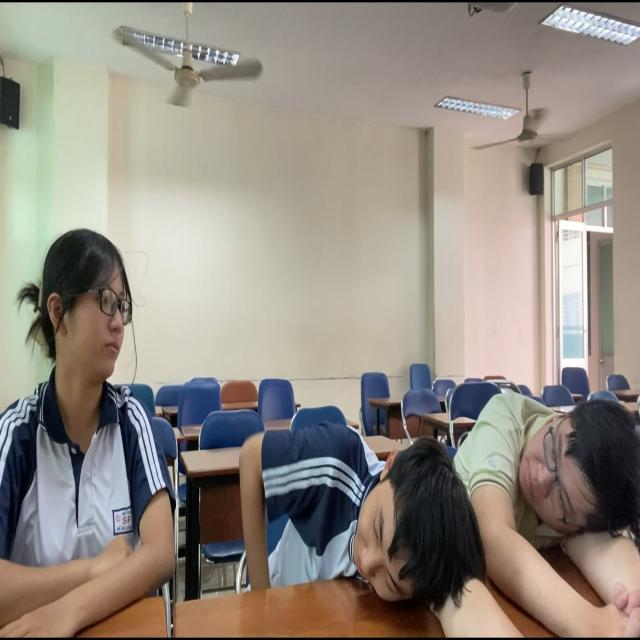sleep: (214, 390, 523, 640), (456, 317, 640, 640)
